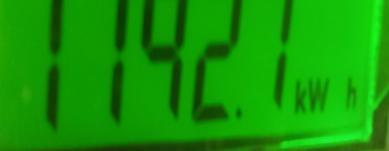.: (292, 77, 359, 113)
0: (233, 107, 245, 121)
2: (38, 0, 69, 134), (271, 0, 293, 106), (110, 0, 127, 127)
3: (189, 1, 240, 125)
5: (137, 0, 186, 119)
